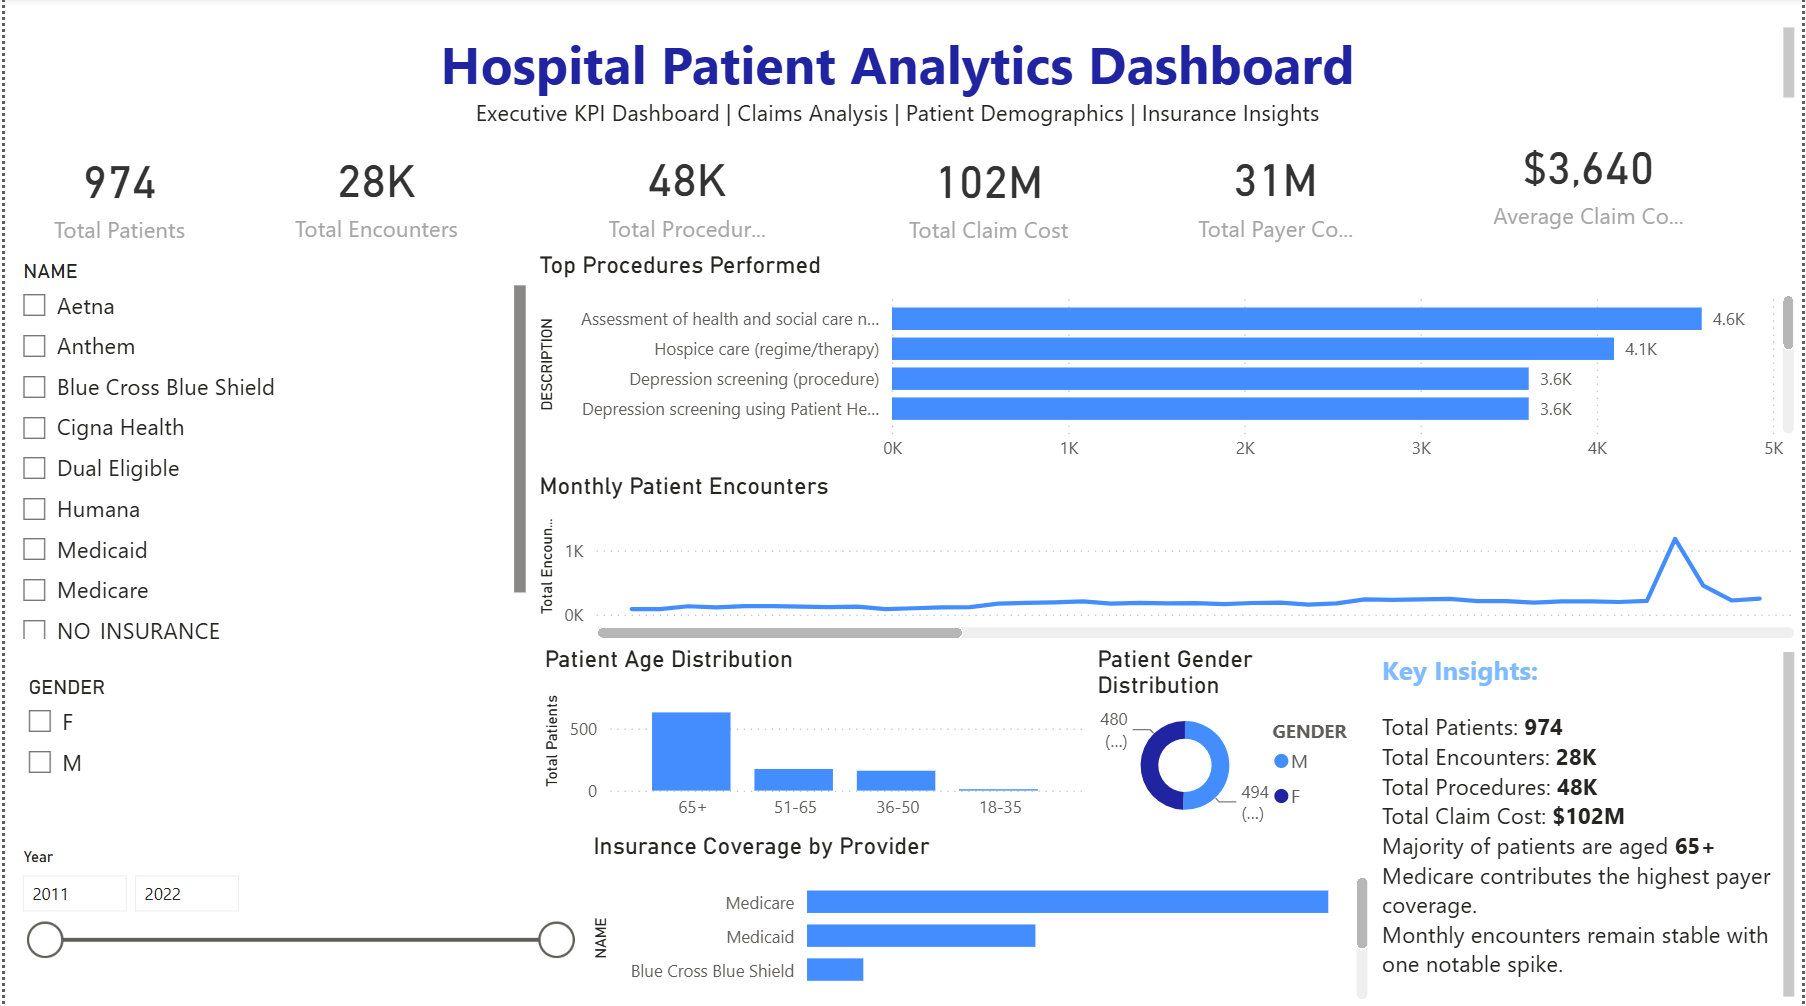

Layout of this report page (visuals, bound fields, positions):
{"tool":"powerbi","page":{"name":"Page 3","canvas":[1280,720],"ordinal":2},"visuals":[{"type":"textbox","box":[0,16.9,1279.9,88.7],"z":0},{"type":"advanceCardE03760C5AB684758B56AA29F9E6C257B","fields":{"mainMeasure":["patients.Total Patients"]},"box":[0,105.6,163.3,76],"z":1000},{"type":"clusteredBarChart","title":"Top Procedures Performed","fields":{"Category":["procedures.DESCRIPTION"],"Y":["procedures.Total Procedures"]},"box":[376,180.2,904,159.1],"z":2000},{"type":"lineChart","title":"Monthly Patient Encounters","fields":{"Category":["DateTable.Year Month"],"Y":["encounters.Total Encounters"]},"box":[376.4,338.5,904.1,123.5],"z":3000},{"type":"slicer","fields":{"Values":["DateTable.Year"]},"box":[0,601.2,414,118.3],"z":4000},{"type":"advanceCardE03760C5AB684758B56AA29F9E6C257B","fields":{"mainMeasure":["encounters.Total Encounters"]},"box":[183.1,105.8,162.6,74.2],"z":5000},{"type":"advanceCardE03760C5AB684758B56AA29F9E6C257B","fields":{"mainMeasure":["procedures.Total Procedures"]},"box":[414,104.2,143.6,76],"z":6000},{"type":"advanceCardE03760C5AB684758B56AA29F9E6C257B","fields":{"mainMeasure":["encounters.Total Claim Cost"]},"box":[628,105.6,145,76],"z":7000},{"type":"advanceCardE03760C5AB684758B56AA29F9E6C257B","fields":{"mainMeasure":["encounters.Total Payer Coverage"]},"box":[835,104.2,140.8,76],"z":8000},{"type":"advanceCardE03760C5AB684758B56AA29F9E6C257B","fields":{"mainMeasure":["encounters.Average Claim Cost"]},"box":[1046.2,94.3,163.3,76],"z":9000},{"type":"slicer","fields":{"Values":["payers.NAME"]},"box":[0,181.6,376,280.2],"z":10000},{"type":"slicer","fields":{"Values":["patients.GENDER"]},"box":[4.2,478.7,376,116.9],"z":11000},{"type":"donutChart","title":"Patient Gender Distribution","fields":{"Category":["patients.GENDER"],"Y":["patients.Total Patients"]},"box":[773,461.8,202.8,133.8],"z":12000},{"type":"clusteredColumnChart","title":"Patient Age Distribution","fields":{"Category":["patients.Age Group"],"Y":["patients.Total Patients"]},"box":[380.2,461.8,392.8,133.8],"z":13000},{"type":"clusteredBarChart","title":"Insurance Coverage by Provider","fields":{"Category":["payers.NAME"],"Y":["encounters.Total Payer Coverage"]},"box":[414,595.6,561.8,123.9],"z":14000},{"type":"textbox","box":[975.8,461.8,304.1,257.7],"z":15000}]}

Visuals, with their boxes in screenshot pixels (x1, y1, x2, y2), scaled from the page's 1280x720 canvas onto the 1806x1006 screenshot:
textbox: 0, 24, 1805, 148
advanceCardE03760C5AB684758B56AA29F9E6C257B - patients.Total Patients: 0, 148, 230, 254
"Top Procedures Performed" clusteredBarChart: 531, 252, 1805, 474
"Monthly Patient Encounters" lineChart: 531, 473, 1805, 646
slicer - DateTable.Year: 0, 840, 584, 1005
advanceCardE03760C5AB684758B56AA29F9E6C257B - encounters.Total Encounters: 258, 148, 488, 252
advanceCardE03760C5AB684758B56AA29F9E6C257B - procedures.Total Procedures: 584, 146, 787, 252
advanceCardE03760C5AB684758B56AA29F9E6C257B - encounters.Total Claim Cost: 886, 148, 1091, 254
advanceCardE03760C5AB684758B56AA29F9E6C257B - encounters.Total Payer Coverage: 1178, 146, 1377, 252
advanceCardE03760C5AB684758B56AA29F9E6C257B - encounters.Average Claim Cost: 1476, 132, 1707, 238
slicer - payers.NAME: 0, 254, 531, 645
slicer - patients.GENDER: 6, 669, 536, 832
"Patient Gender Distribution" donutChart: 1091, 645, 1377, 832
"Patient Age Distribution" clusteredColumnChart: 536, 645, 1091, 832
"Insurance Coverage by Provider" clusteredBarChart: 584, 832, 1377, 1005
textbox: 1377, 645, 1805, 1005
